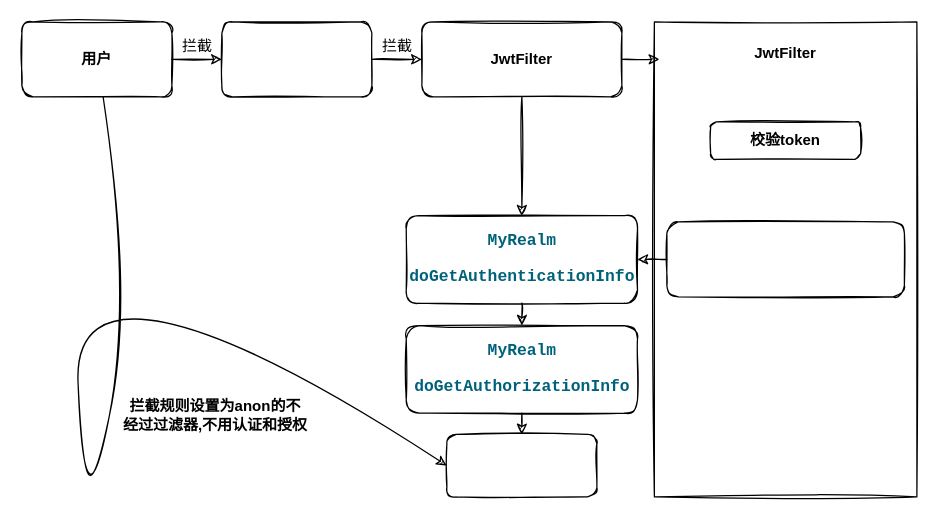
Some shapes in this 939 by 519 pixel diagram are drawn without their labels. The shapes that lost their labels are listed below. From the top down, each one's box as (x1, y1, x2, y2) in pixels, then its label:
(221, 21, 372, 97): XssFilter
(666, 221, 904, 297): executeLogin(request,response) 进行登录操作,将token传给realm
(446, 433, 597, 497): Controller
